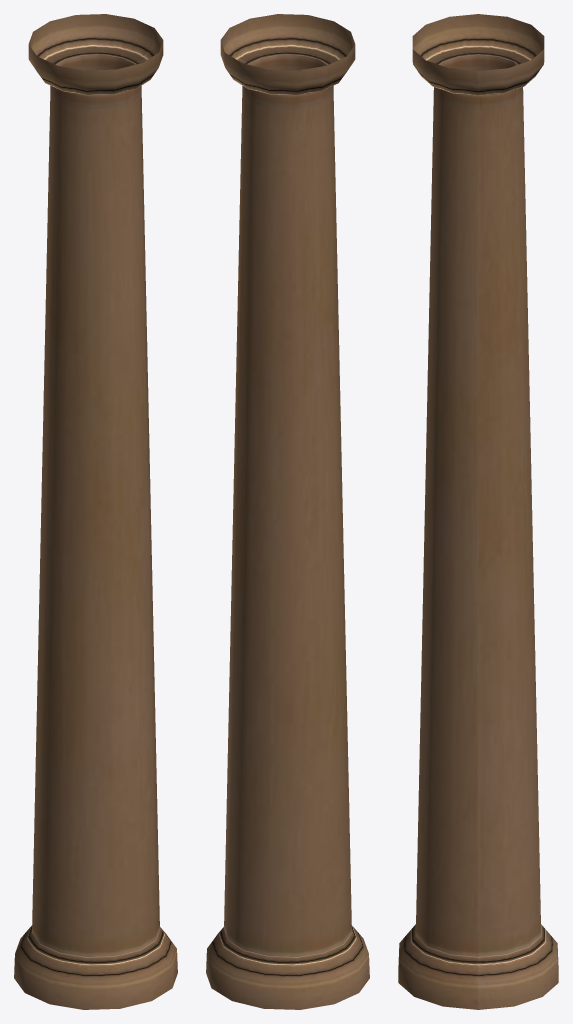
File: Room01_Pillar.FBX
3 views of the same model, side by side, from view 1: azimuth 30°, elevation 25°; view 2: azimuth 150°, elevation 25°; view 3: azimuth 270°, elevation 25° (orthographic).
Parts seen in each view (by area): view 1: Room01_Pillar; view 2: Room01_Pillar; view 3: Room01_Pillar.
Boxes of the visible parts, x1=… form: Room01_Pillar: x1=14, y1=14, x2=177, y2=1009; Room01_Pillar: x1=206, y1=14, x2=369, y2=1009; Room01_Pillar: x1=398, y1=14, x2=558, y2=1009.
Bounding box in the file's own units: 63.14 × 61.56 × 396.
